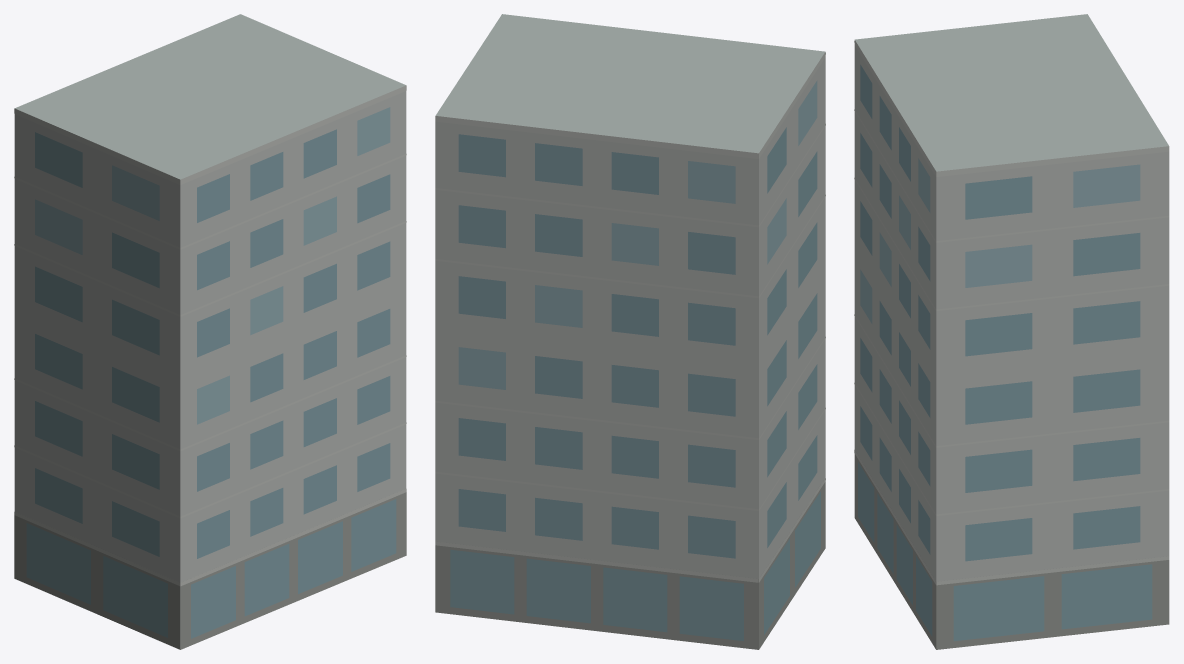
Rendered from survey-upis-32984516.glb.
3 views of the same model, side by side, from view 1: azimuth 30°, elevation 25°; view 2: azimuth 150°, elevation 25°; view 3: azimuth 270°, elevation 25° (orthographic). The views are drawn at different scales.
Parts seen in each view (by area): view 1: survey-upis-32984516.tmp; view 2: survey-upis-32984516.tmp; view 3: survey-upis-32984516.tmp.
Part boxes in pixels (x1,y1,x2,y2): survey-upis-32984516.tmp: [14, 14, 406, 649]; survey-upis-32984516.tmp: [435, 14, 825, 649]; survey-upis-32984516.tmp: [854, 14, 1169, 649].
Size of the model in its own units: 14.94 by 21.1 by 12.61.
